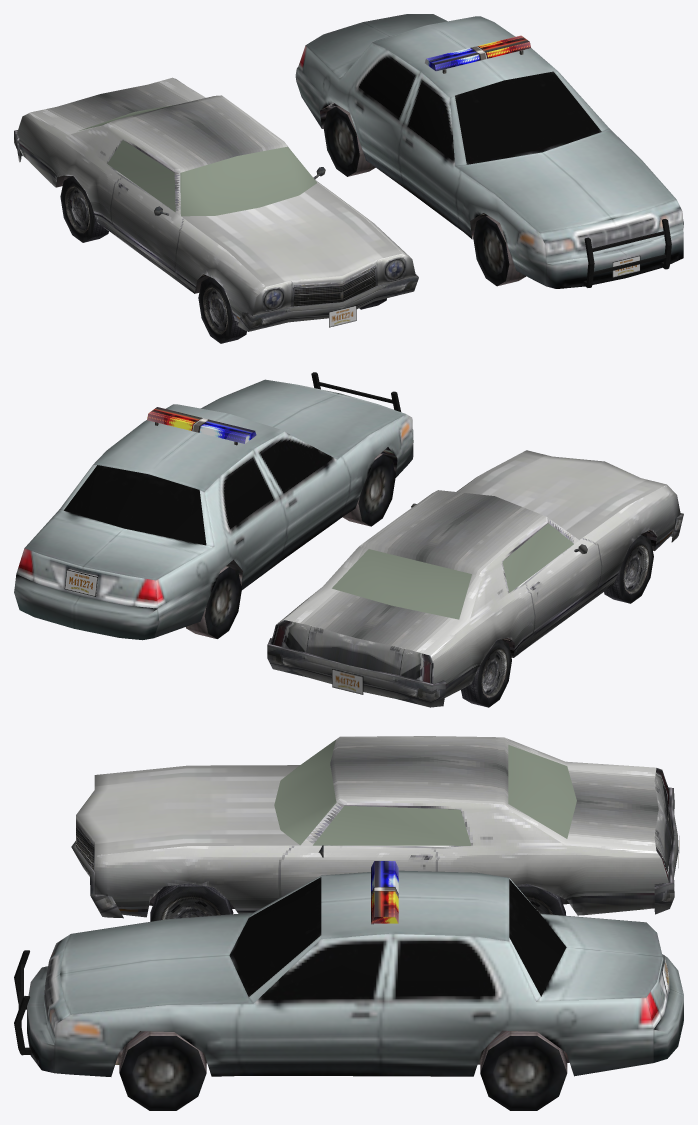
3 renders of one model, top to bottom at view 1: azimuth 30°, elevation 25°; view 2: azimuth 150°, elevation 25°; view 3: azimuth 270°, elevation 25°, orthographic. The views are drawn at different scales.
Parts seen in each view (by area): view 1: copCar_LOD0, montecarlo70_LOD0, copCarDetail_LOD0; view 2: copCar_LOD0, montecarlo70_LOD0, copCarDetail_LOD0, montecarlo70_Placa; view 3: copCar_LOD0, montecarlo70_LOD0, copCarDetail_LOD0.
Part boxes in pixels (x1,y1,x2,y2): copCar_LOD0: (295, 14, 683, 288); montecarlo70_LOD0: (14, 77, 418, 343); copCarDetail_LOD0: (425, 35, 671, 287); copCar_LOD0: (14, 379, 413, 640); montecarlo70_LOD0: (267, 450, 683, 707); copCarDetail_LOD0: (64, 372, 400, 596); montecarlo70_Placa: (332, 669, 363, 694); copCar_LOD0: (27, 870, 683, 1110); montecarlo70_LOD0: (71, 736, 678, 921); copCarDetail_LOD0: (14, 861, 669, 1055).
Size of the model in its own units: 5.06 by 1.65 by 5.61.
3 materials, 3 textured.
